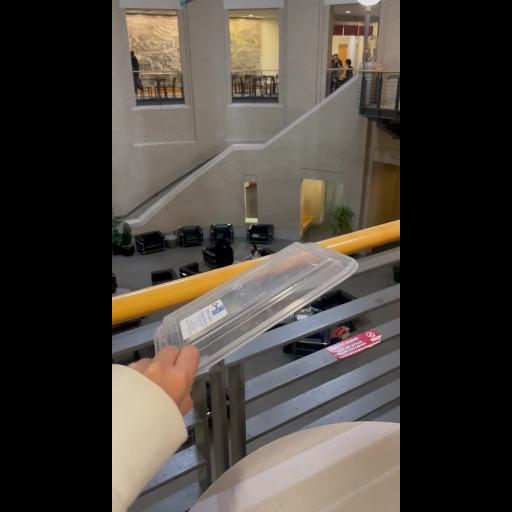rigid_plastic_lid: (144, 228, 352, 384)
